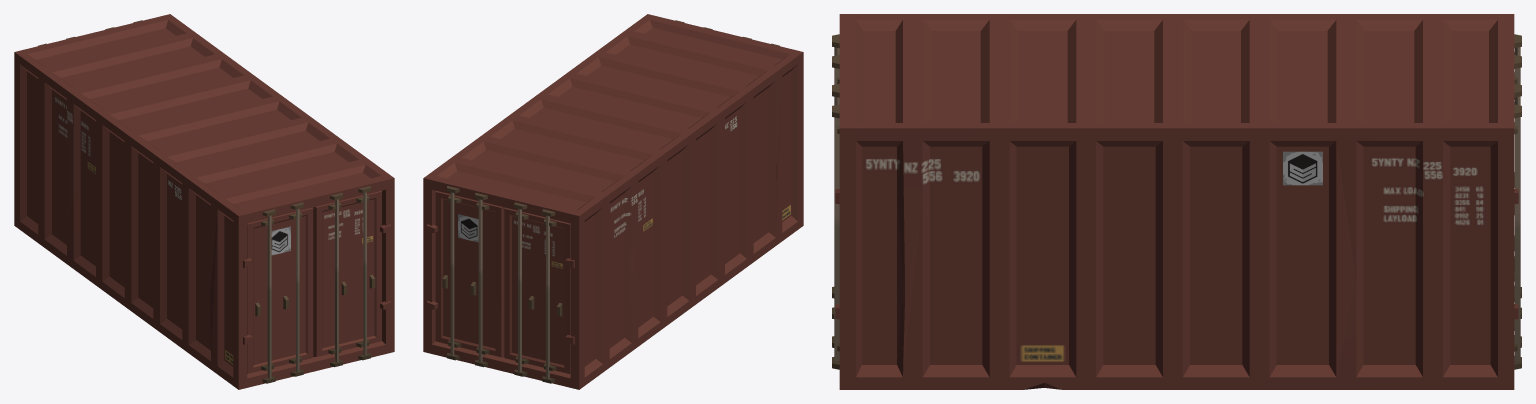
File: SM_Prop_Shipping_Container_01.obj
The picture shows the model from 3 angles, left to right: view 1: azimuth 30°, elevation 25°; view 2: azimuth 150°, elevation 25°; view 3: azimuth 270°, elevation 25°; orthographic projection. The views are drawn at different scales.
Parts seen in each view (by area): view 1: SM_Prop_Shipping_Container_01_0; view 2: SM_Prop_Shipping_Container_01_0; view 3: SM_Prop_Shipping_Container_01_0.
Part boxes in pixels (box(x1,y1,x2,y2)): SM_Prop_Shipping_Container_01_0: box(14, 14, 394, 389); SM_Prop_Shipping_Container_01_0: box(423, 14, 803, 389); SM_Prop_Shipping_Container_01_0: box(832, 14, 1521, 389).
Bounding box in the file's own units: 2.45 × 2.59 × 6.19.
Materials: 1 (1 with a texture image).
